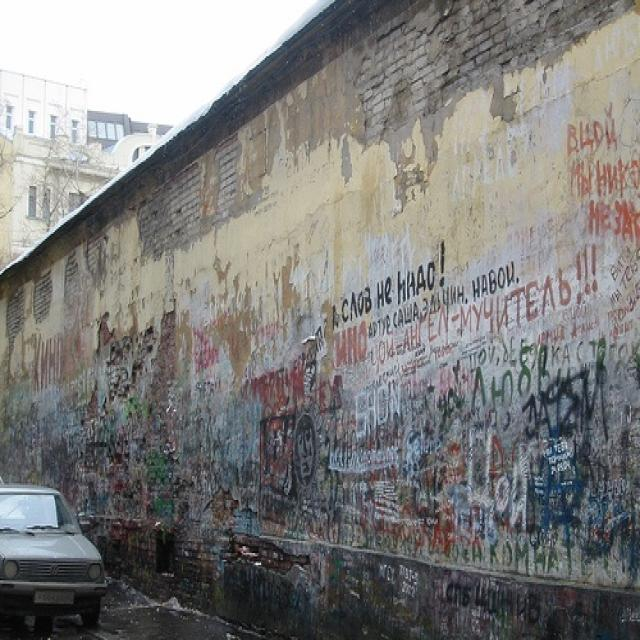car: (0, 483, 106, 638)
